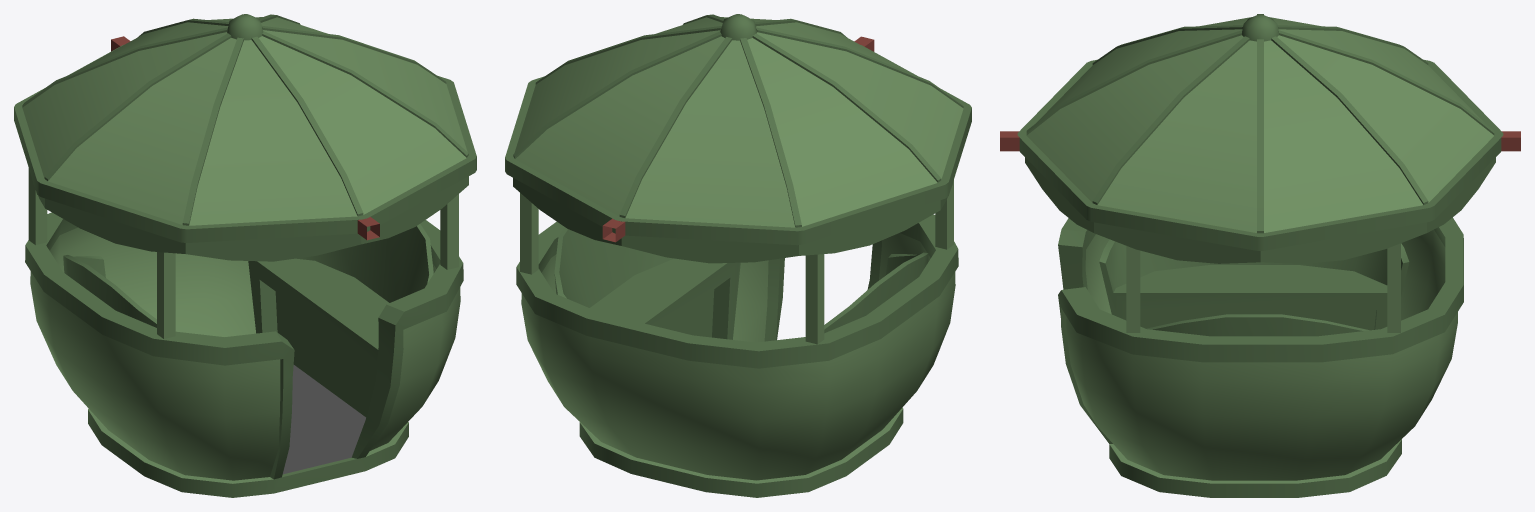
Rendered from SM_Props_Park_02_Cabin_03.fbx.
The picture shows the model from 3 angles, left to right: view 1: azimuth 30°, elevation 25°; view 2: azimuth 150°, elevation 25°; view 3: azimuth 270°, elevation 25°; orthographic projection.
Visible parts, largest first — view 1: SM_Props_Park_02_Cabin_03; view 2: SM_Props_Park_02_Cabin_03; view 3: SM_Props_Park_02_Cabin_03.
Part boxes in pixels (bbox=[...]): SM_Props_Park_02_Cabin_03: bbox=[14, 14, 476, 497]; SM_Props_Park_02_Cabin_03: bbox=[505, 14, 971, 497]; SM_Props_Park_02_Cabin_03: bbox=[1000, 14, 1520, 497].
Bounding box in the file's own units: 3.17 × 3.02 × 3.4.
